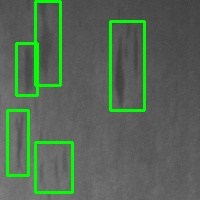inclusion: (110, 21, 144, 110), (35, 1, 60, 85), (35, 142, 72, 192), (7, 110, 28, 175), (16, 43, 37, 95)
